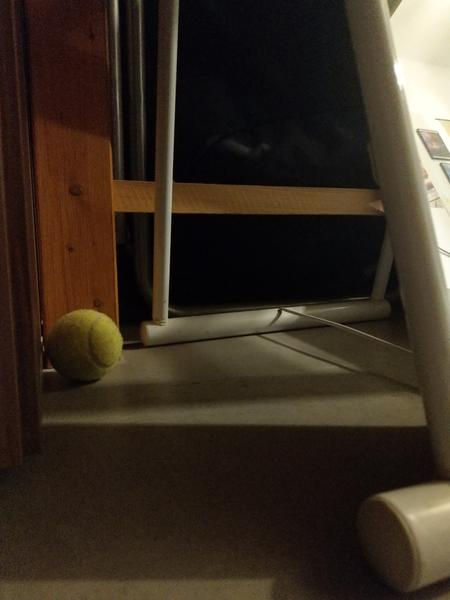Tennisball: (43, 306, 124, 388)
